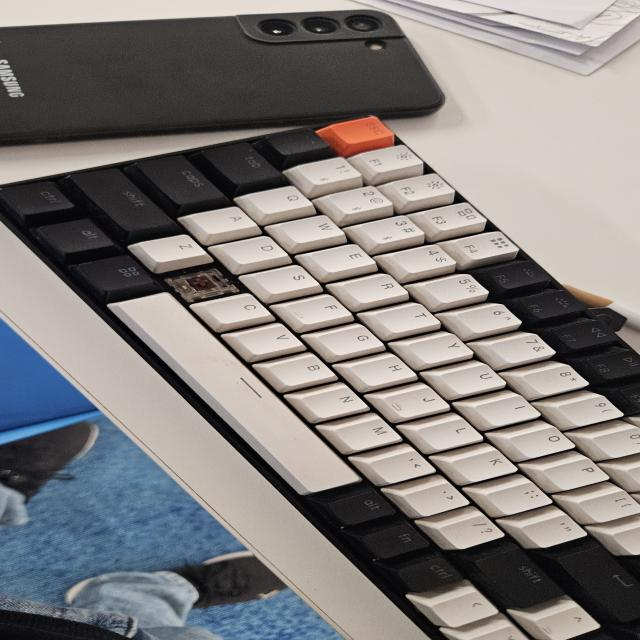C: (174, 272, 236, 294)
